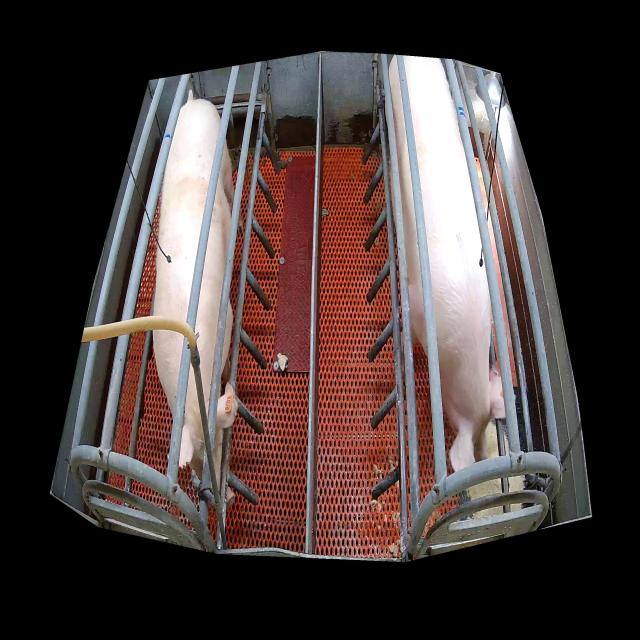pig: (388, 55, 505, 472), (152, 99, 244, 494)
